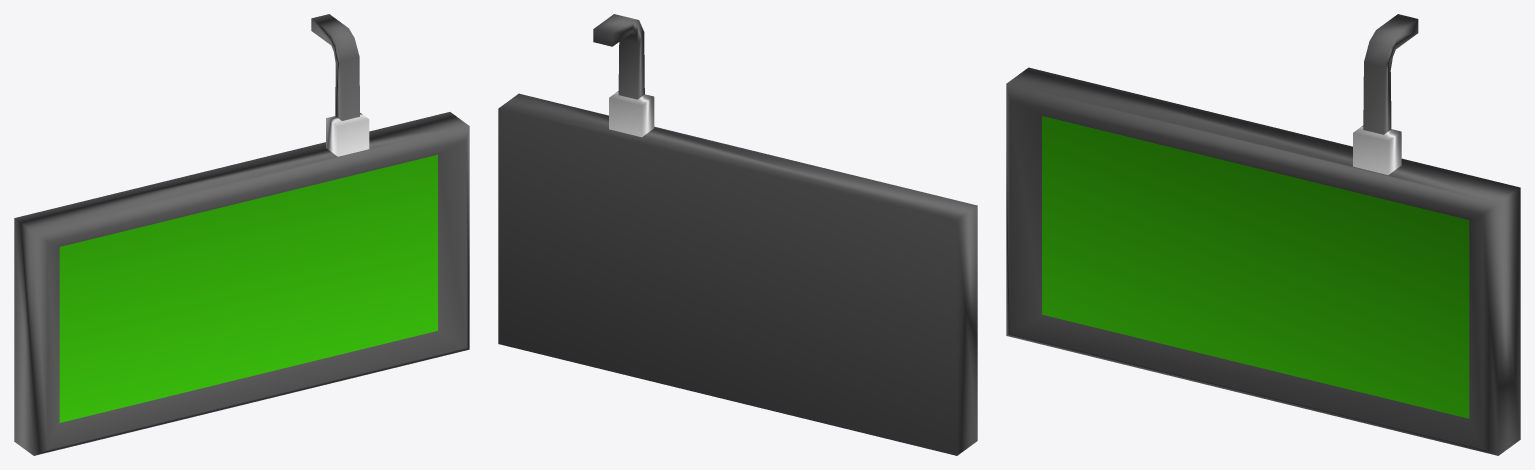
The model's file is ExitSign.fbx.
3 renders of one model, left to right at view 1: azimuth 30°, elevation 25°; view 2: azimuth 150°, elevation 25°; view 3: azimuth 330°, elevation 25°, orthographic. The views are drawn at different scales.
Visible parts, largest first — view 1: Cube; view 2: Cube; view 3: Cube.
Boxes of the visible parts, x1=… form: Cube: x1=14, y1=14, x2=469, y2=455; Cube: x1=498, y1=14, x2=977, y2=455; Cube: x1=1006, y1=14, x2=1520, y2=455.
Size of the model in its own units: 451 by 332 by 71.86.
